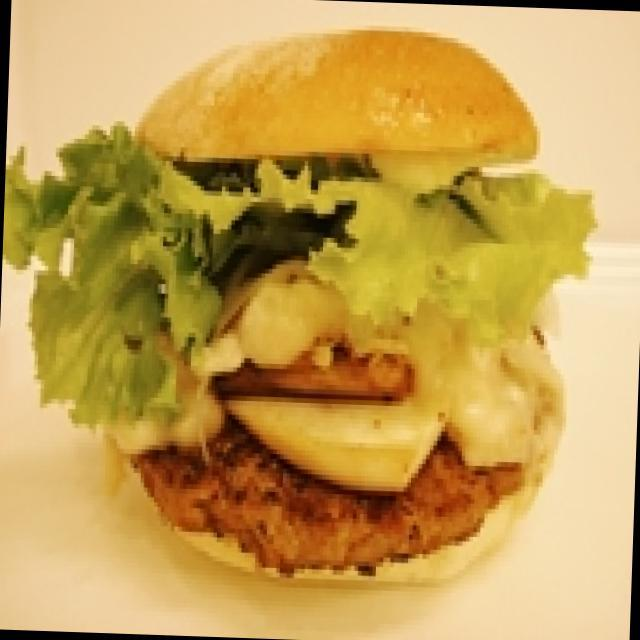Hamburger: (0, 0, 608, 601)
